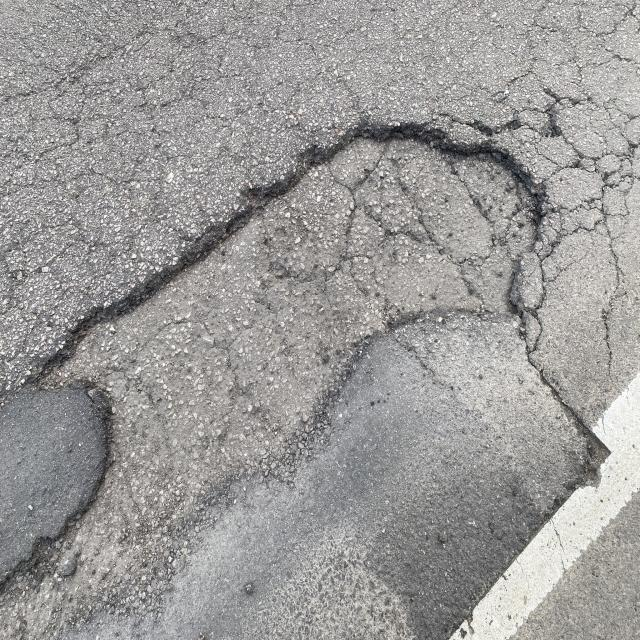pothole: (26, 64, 616, 378)
